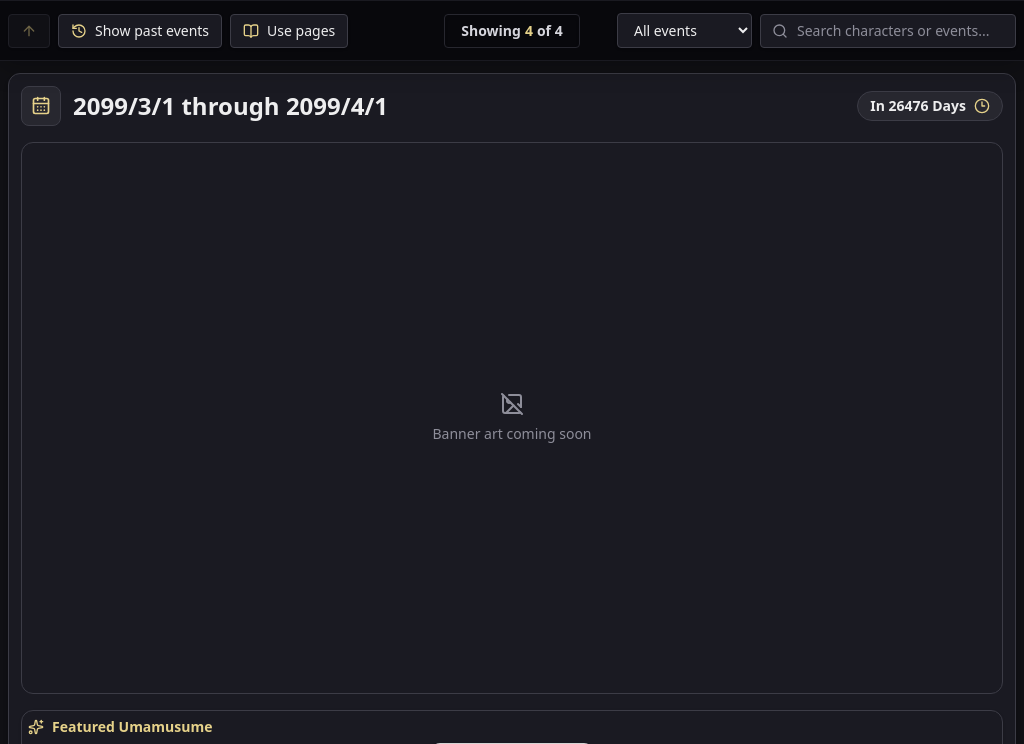
Test: Timeline category filter › narrows to markers of one kind, dropping banners and the other kind
Check: the text "Showing 4 of 4" is shown, box [444,14,580,48]
Select "Scenarios" in the dropdown named "filter events" at (684, 30), box [617,13,752,48]
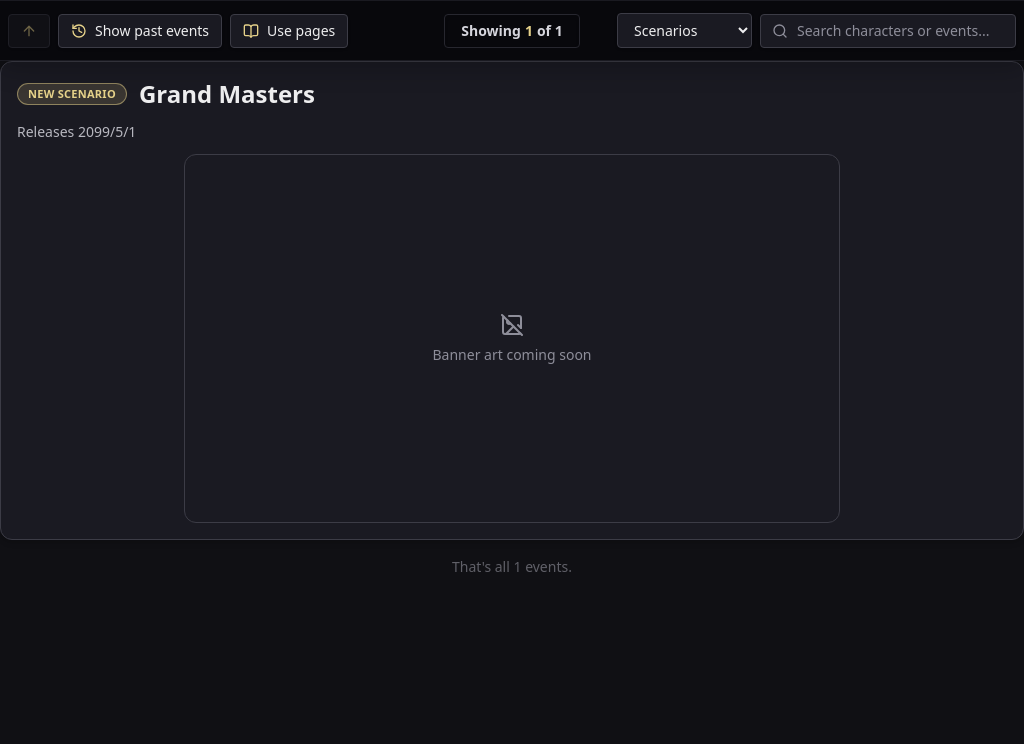
Check: the heading "Grand Masters" is shown, box [139,78,315,110]
Check: the text "Showing 1 of 1" is shown, box [444,14,580,48]
